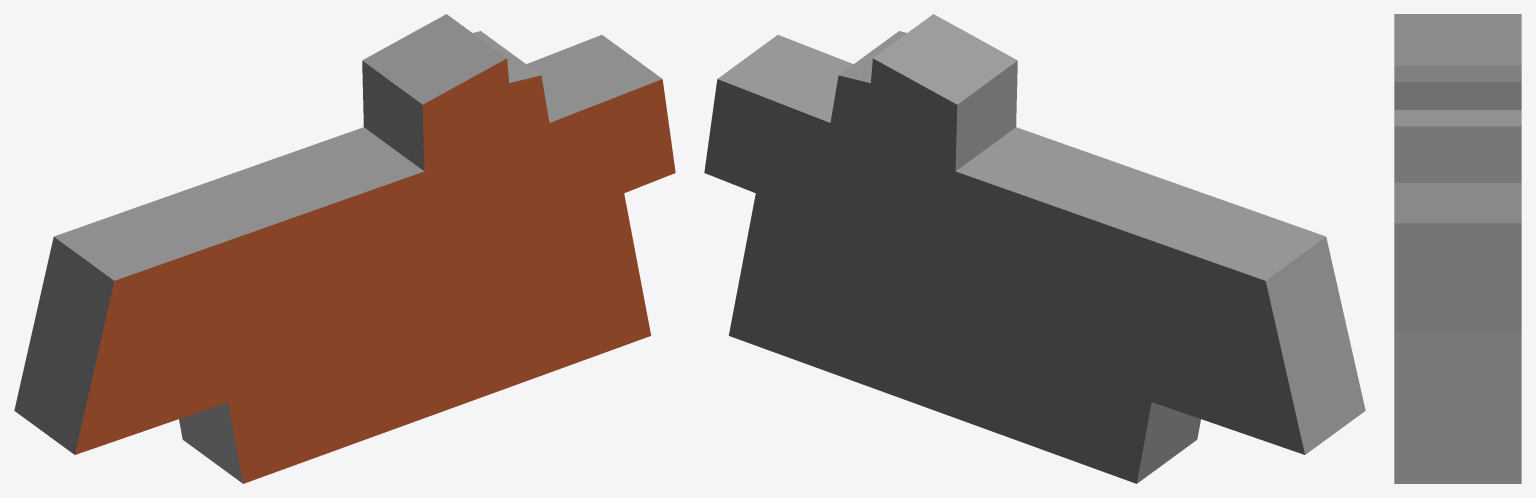
Rendered from construction_1905_assumed_A_Casa_h6m.obj.
3 views of the same model, side by side, from view 1: azimuth 30°, elevation 25°; view 2: azimuth 150°, elevation 25°; view 3: azimuth 270°, elevation 25° (orthographic). The views are drawn at different scales.
Parts seen in each view (by area): view 1: construction_1905_assumed_A_Casa; view 2: construction_1905_assumed_A_Casa; view 3: construction_1905_assumed_A_Casa.
Part boxes in pixels (left/top/right/bottom): construction_1905_assumed_A_Casa: left=14, top=14, right=675, bottom=483; construction_1905_assumed_A_Casa: left=704, top=14, right=1365, bottom=483; construction_1905_assumed_A_Casa: left=1394, top=14, right=1521, bottom=483.
Bounding box in the file's own units: 34.36 × 19.74 × 6.
